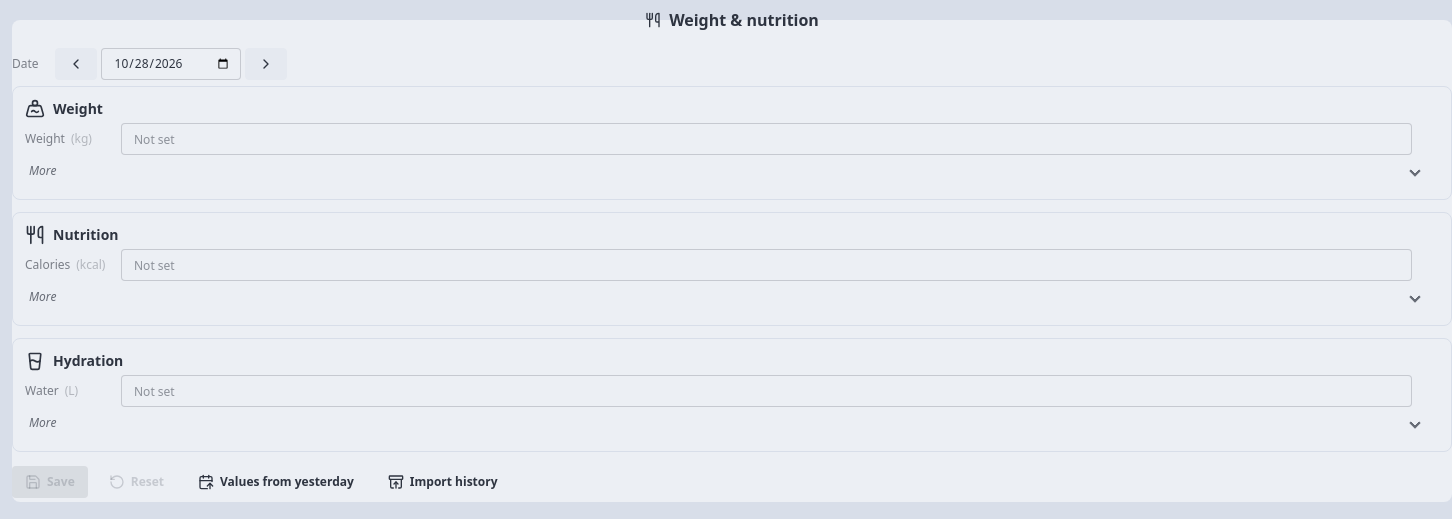
Test: WeightAndNutritionForm › disables the save button while a save request is in flight
This screenshot has width=1452, height=519.
Type "75" into the number field labelled "Weight (kg)" at (766, 139), box 121,123 -> 1412,155
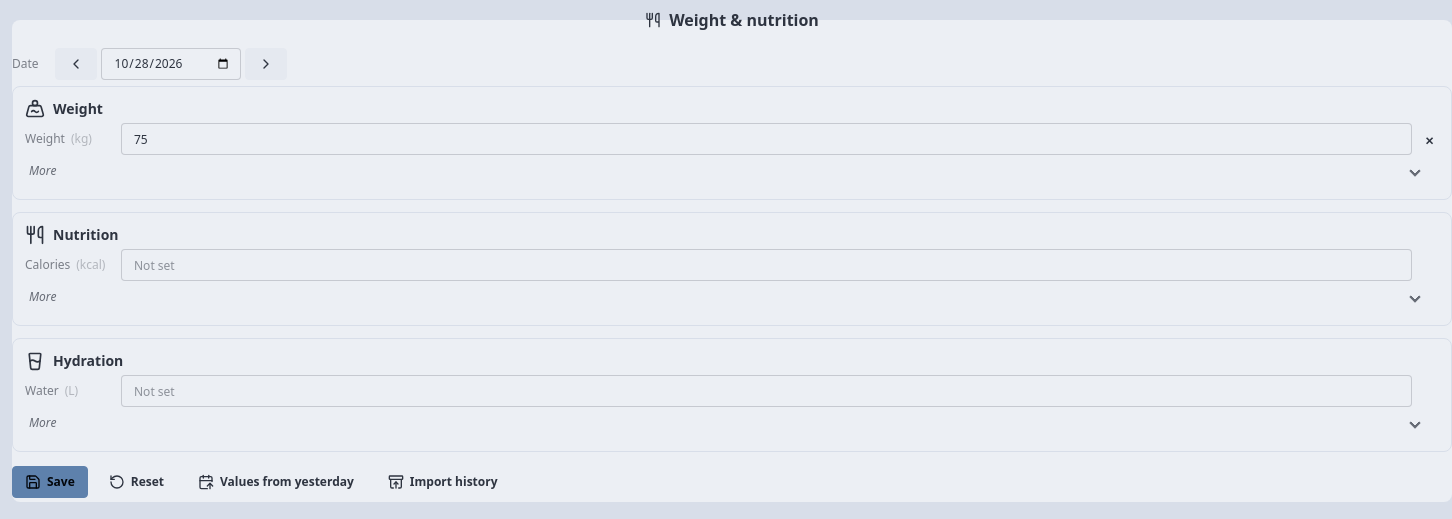
Click the button "Save" at (50, 482), box 12,466 -> 88,498
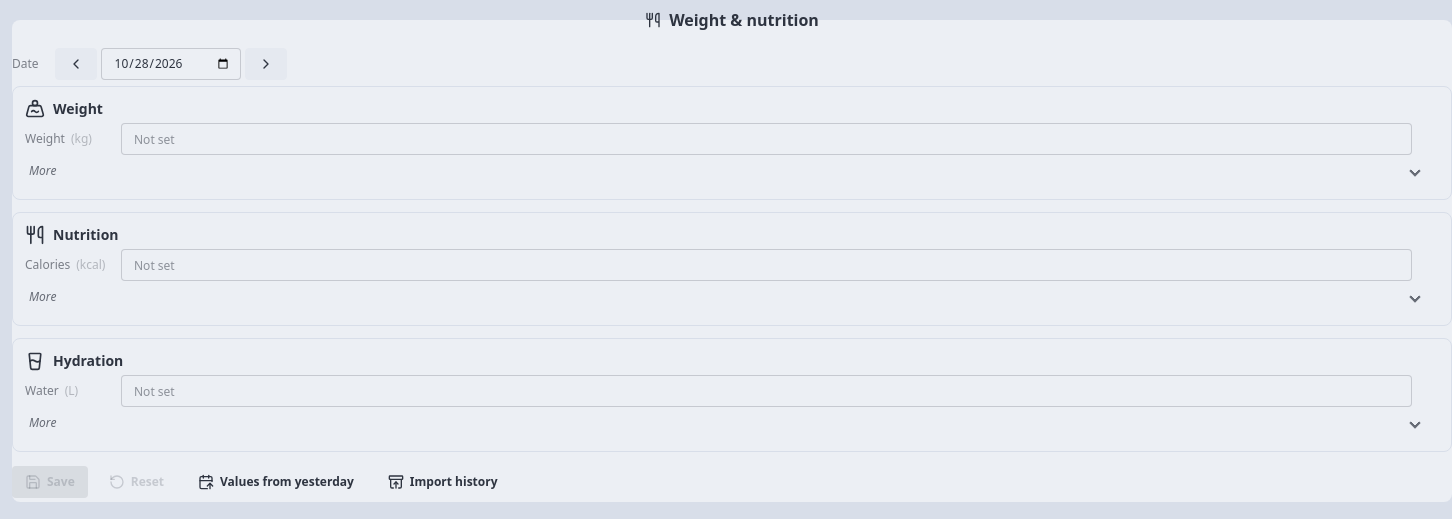
Now the button "Save" is disabled, box 12,466 -> 88,498
